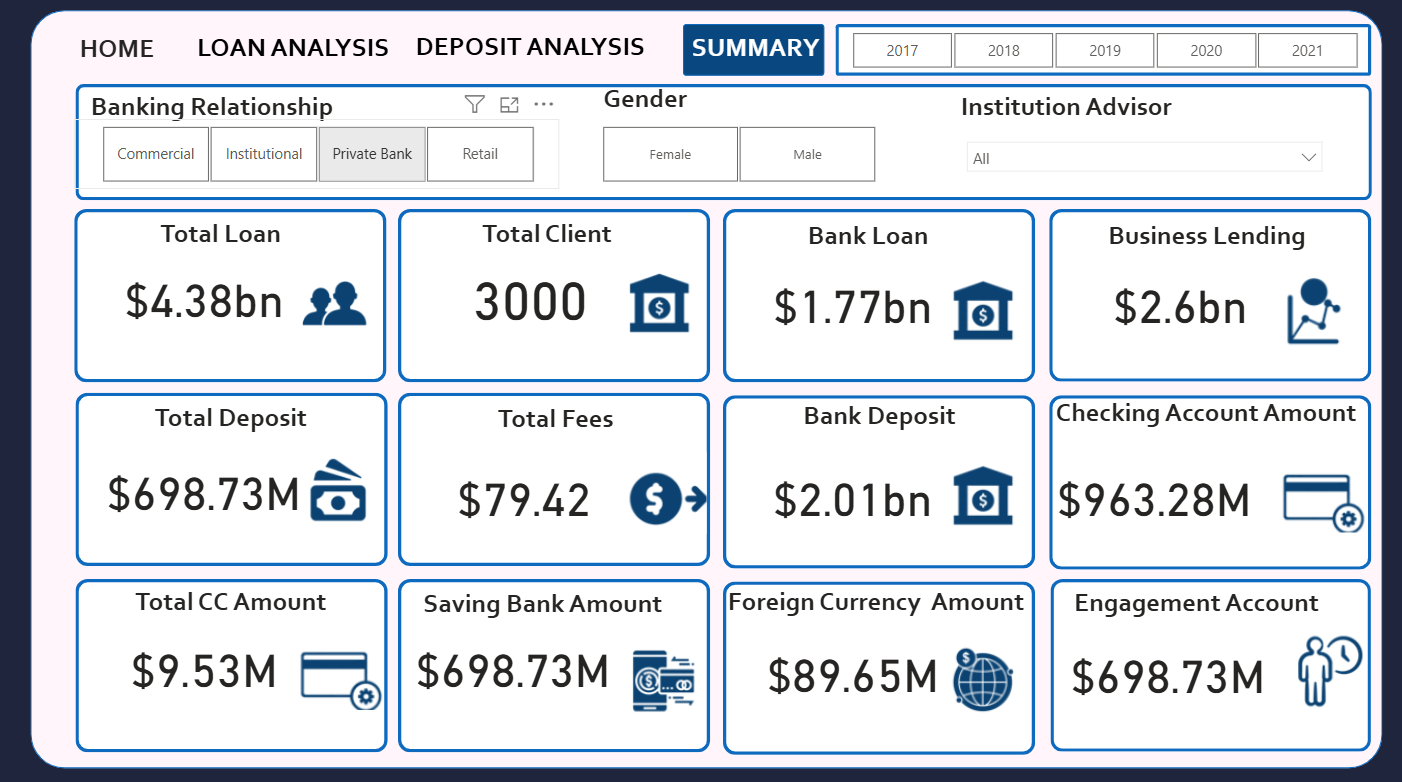

This screenshot's page, from the dashboard's own definition file:
{"tool":"powerbi","page":{"name":"Summary","canvas":[1280,720],"ordinal":3},"visuals":[{"type":"shape","box":[29.6,14.8,1229.1,689.3],"z":0},{"type":"shape","box":[955.7,195.7,292.9,157.1],"z":1000},{"type":"shape","box":[955.7,364.3,292.9,158.6],"z":2000},{"type":"shape","box":[957.1,531.4,291.4,157.1],"z":3000},{"type":"shape","box":[658.8,195,283.8,157.5],"z":4000},{"type":"shape","box":[658.8,365,283.8,157.5],"z":5000},{"type":"shape","box":[658.8,533.8,283.8,157.5],"z":6000},{"type":"shape","box":[363.8,195,283.8,157.5],"z":7000},{"type":"shape","box":[363.8,362.5,283.8,157.5],"z":8000},{"type":"shape","box":[363.8,531.2,283.8,157.5],"z":9000},{"type":"shape","box":[68.8,195,283.8,157.5],"z":10000},{"type":"shape","box":[70,362.5,283.8,157.5],"z":11000},{"type":"shape","box":[70,531.2,283.8,157.5],"z":12000},{"type":"shape","box":[761.4,27.1,487.1,47.1],"z":13000},{"type":"shape","box":[70,81.4,1178.6,105.7],"z":14000},{"type":"shape","box":[622.9,27.1,128.6,47.1],"z":15000},{"type":"textbox","box":[176.2,28.8,187.5,43.8],"z":16000},{"type":"textbox","box":[372.9,27.1,222.9,44.3],"z":17000},{"type":"textbox","box":[618.6,28.6,141.4,42.9],"z":18000},{"type":"slicer","fields":{"Values":["Banking_Clients.Year"]},"box":[751.4,28.6,508.6,45.7],"z":19000},{"type":"textbox","box":[15,29,187,44],"z":20000},{"type":"actionButton","box":[58.8,26.2,100,45],"z":21000},{"type":"textbox","box":[80,81.2,273.8,42.5],"z":22000},{"type":"textbox","box":[545,75,273.8,42.5],"z":23000},{"type":"textbox","box":[870,81.2,316.2,42.5],"z":24000},{"type":"slicer","fields":{"Values":["Banking_Clients.IAId"]},"box":[870,123.8,343.8,52.5],"z":25000},{"type":"slicer","fields":{"Values":["Banking_Clients.GenderId"]},"box":[523.8,113.8,297.5,63.8],"z":26000},{"type":"slicer","fields":{"Values":["Banking_Clients.BRId"]},"box":[68.8,113.8,441.2,63.8],"z":27000},{"type":"actionButton","box":[170,31.4,194.3,40],"z":28000},{"type":"actionButton","box":[58.8,27.5,100,40],"z":29000},{"type":"textbox","box":[123.8,197.5,157.5,43.8],"z":30000},{"type":"textbox","box":[420,197.5,157.5,43.8],"z":31000},{"type":"textbox","box":[712.5,198.8,157.5,43.8],"z":32000},{"type":"textbox","box":[995,198.8,207.5,43.8],"z":33000},{"type":"textbox","box":[947.5,360,301.2,43.8],"z":34000},{"type":"textbox","box":[966.2,532.5,247.5,43.8],"z":35000},{"type":"textbox","box":[107.5,531.2,207.5,43.8],"z":36000},{"type":"textbox","box":[722.5,362.5,157.5,43.8],"z":37000},{"type":"textbox","box":[647.5,531.2,301.2,43.8],"z":38000},{"type":"textbox","box":[428.8,366.2,157.5,43.8],"z":39000},{"type":"textbox","box":[132.5,365,157.5,43.8],"z":40000},{"type":"textbox","box":[353.8,533.8,278.8,43.8],"z":41000},{"type":"image","box":[854.3,241.4,80,91.4],"z":42000},{"type":"card","fields":{"Values":["Sum(Banking_Clients.Saving Accounts)"]},"box":[70,403.8,233.8,92.5],"z":43000},{"type":"card","fields":{"Values":["Banking_Clients.Total Loan"]},"box":[70,228.6,234.3,91.4],"z":44000},{"type":"card","fields":{"Values":["Sum(Banking_Clients.Credit Card Balance)"]},"box":[70,564.3,234.3,91.4],"z":45000},{"type":"card","fields":{"Values":["CountNonNull(Banking_Clients.Client ID)"]},"box":[367.1,228.6,234.3,91.4],"z":46000},{"type":"card","fields":{"Values":["Sum(Banking_Clients.Saving Accounts)"]},"box":[351.4,564.3,234.3,91.4],"z":47000},{"type":"card","fields":{"Values":["Sum(Banking_Clients.Bank Deposits)"]},"box":[660.6,409.2,233.8,92.5],"z":48000},{"type":"card","fields":{"Values":["Sum(Banking_Clients.Bank Loans)"]},"box":[660.6,234,234.3,91.4],"z":49000},{"type":"card","fields":{"Values":["Sum(Banking_Clients.Foreign Currency Account)"]},"box":[660.6,569.7,234.3,91.4],"z":50000},{"type":"card","fields":{"Values":["Sum(Banking_Clients.Checking Accounts)"]},"box":[934.3,408.6,234.3,92.9],"z":51000},{"type":"card","fields":{"Values":["Sum(Banking_Clients.Business Lending)"]},"box":[957.7,234,234.3,91.4],"z":52000},{"type":"card","fields":{"Values":["Sum(Banking_Clients.Saving Accounts)"]},"box":[947.1,570,234.3,91.4],"z":53000},{"type":"actionButton","box":[372.9,30,228.6,40],"z":54000},{"type":"image","box":[265.7,241.4,75.7,75.7],"z":55000},{"type":"image","box":[854.3,408.6,80,91.4],"z":56000},{"type":"image","box":[855.7,582.9,78.6,78.6],"z":57000},{"type":"image","box":[562.9,411.4,87.1,84.3],"z":58000},{"type":"image","box":[1165.7,570,92.9,94.3],"z":59000},{"type":"image","box":[267.1,577.1,88.6,88.6],"z":60000},{"type":"image","box":[1160,415.7,88.6,88.6],"z":61000},{"type":"image","box":[1158.6,247.1,68.6,87.1],"z":62000},{"type":"image","box":[560,234.3,80,91.4],"z":63000},{"type":"image","box":[268.6,411.4,75.7,78.6],"z":64000},{"type":"image","box":[562.9,581.4,85.7,82.9],"z":65000},{"type":"card","fields":{"Values":["Sum(Banking_Clients.Processing_Fees)"]},"box":[361.4,408.6,234.3,92.9],"z":66000}]}

Visuals, with their boxes in screenshot pixels (x1, y1, x2, y2), scaled from the page's 1280x720 canvas onto the 1402x782 screenshot:
shape: 32/16/1379/765
shape: 1047/213/1368/383
shape: 1047/396/1368/568
shape: 1048/577/1367/748
shape: 722/212/1032/383
shape: 722/396/1032/567
shape: 722/580/1032/751
shape: 398/212/709/383
shape: 398/394/709/565
shape: 398/577/709/748
shape: 75/212/386/383
shape: 77/394/388/565
shape: 77/577/388/748
shape: 834/29/1367/81
shape: 77/88/1368/203
shape: 682/29/823/81
textbox: 193/31/398/79
textbox: 408/29/653/78
textbox: 678/31/832/78
slicer - Banking_Clients.Year: 823/31/1380/81
textbox: 16/31/221/79
actionButton: 64/28/174/77
textbox: 88/88/388/134
textbox: 597/81/897/128
textbox: 953/88/1299/134
slicer - Banking_Clients.IAId: 953/134/1329/191
slicer - Banking_Clients.GenderId: 574/124/900/193
slicer - Banking_Clients.BRId: 75/124/559/193
actionButton: 186/34/399/78
actionButton: 64/30/174/73
textbox: 136/215/308/262
textbox: 460/215/633/262
textbox: 780/216/953/263
textbox: 1090/216/1317/263
textbox: 1038/391/1368/439
textbox: 1058/578/1329/626
textbox: 118/577/345/625
textbox: 791/394/964/441
textbox: 709/577/1039/625
textbox: 470/398/642/445
textbox: 145/396/318/444
textbox: 388/580/693/627
image: 936/262/1023/361
card - Sum(Banking_Clients.Saving Accounts): 77/439/333/539
card - Banking_Clients.Total Loan: 77/248/333/348
card - Sum(Banking_Clients.Credit Card Balance): 77/613/333/712
card - CountNonNull(Banking_Clients.Client ID): 402/248/659/348
card - Sum(Banking_Clients.Saving Accounts): 385/613/642/712
card - Sum(Banking_Clients.Bank Deposits): 724/444/980/545
card - Sum(Banking_Clients.Bank Loans): 724/254/980/353
card - Sum(Banking_Clients.Foreign Currency Account): 724/619/980/718
card - Sum(Banking_Clients.Checking Accounts): 1023/444/1280/545
card - Sum(Banking_Clients.Business Lending): 1049/254/1306/353
card - Sum(Banking_Clients.Saving Accounts): 1037/619/1294/718
actionButton: 408/33/659/76
image: 291/262/374/344
image: 936/444/1023/543
image: 937/633/1023/718
image: 617/447/712/538
image: 1277/619/1379/722
image: 293/627/390/723
image: 1271/451/1368/548
image: 1269/268/1344/363
image: 613/254/701/354
image: 294/447/377/532
image: 617/631/710/722
card - Sum(Banking_Clients.Processing_Fees): 396/444/652/545
